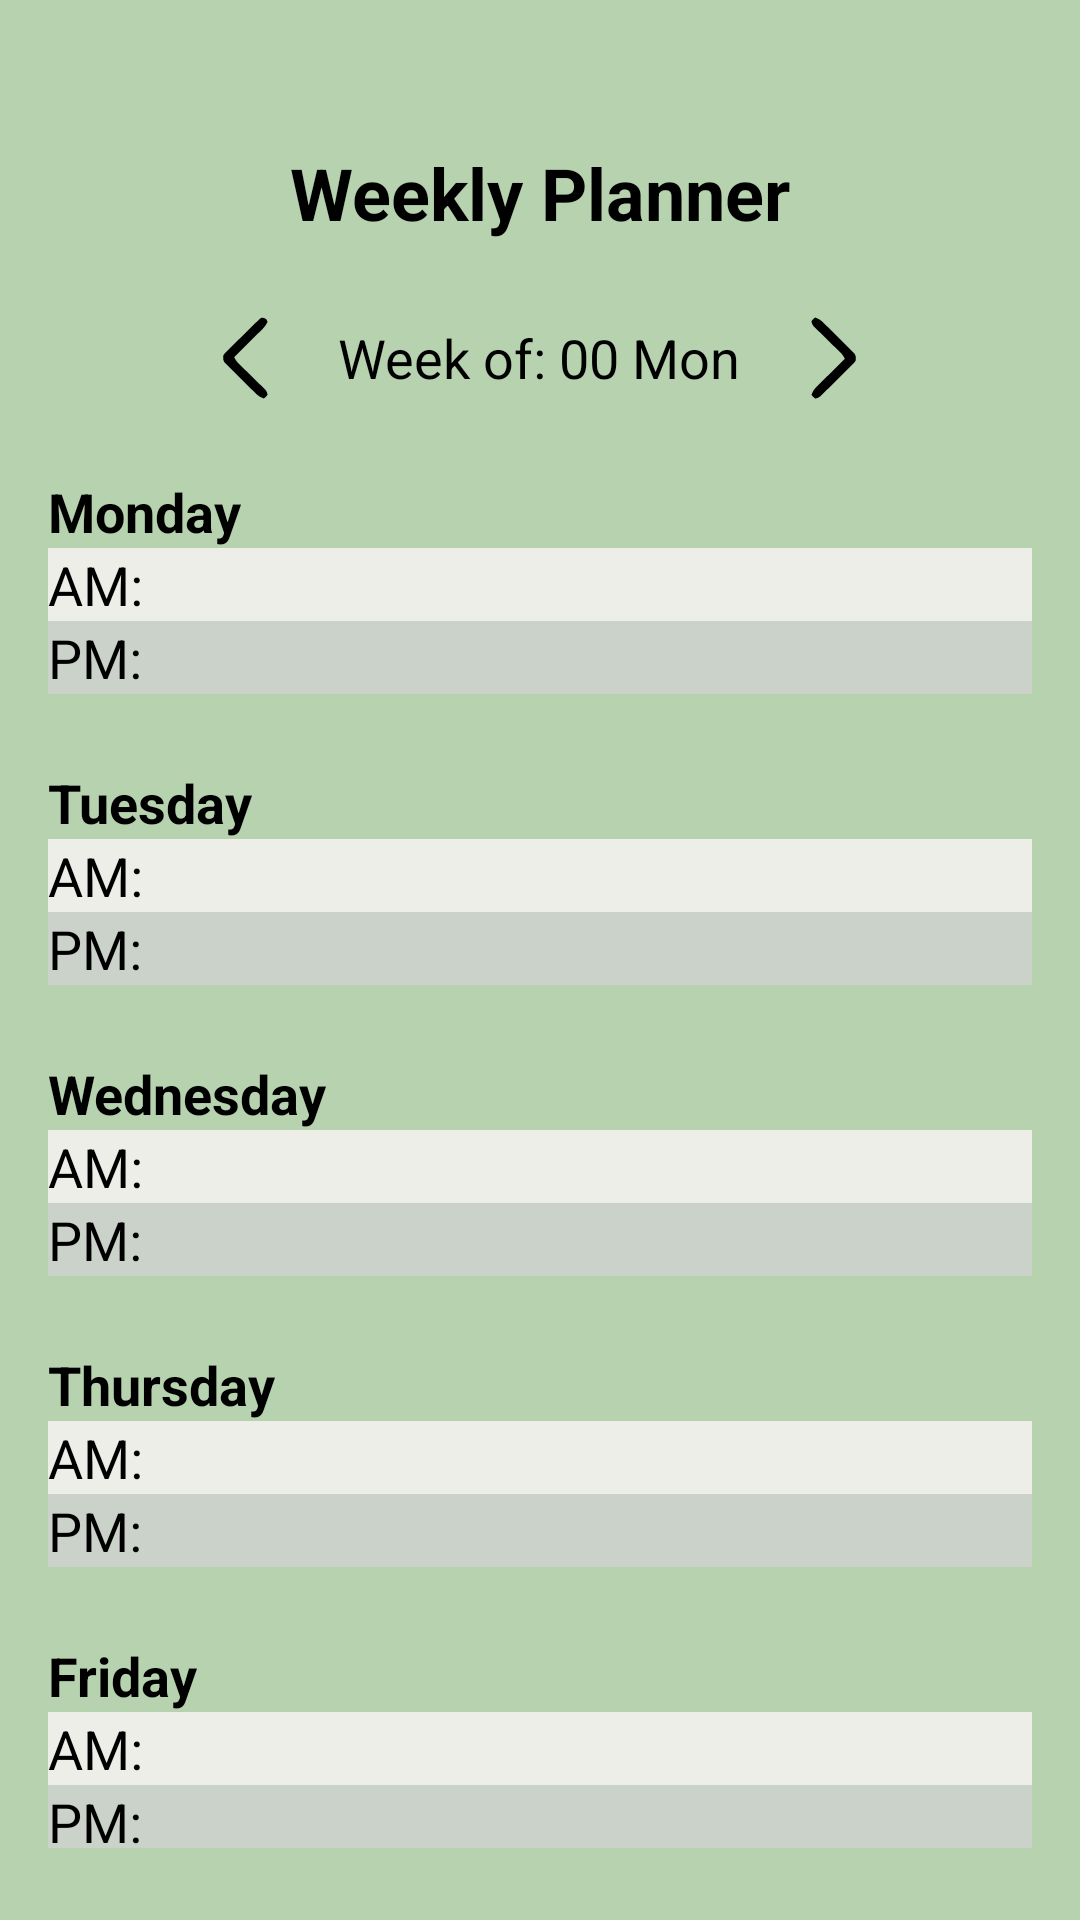

Icon click points for this 1080px x 1920px phone screenshot, format (x,y):
forward: (833,358)
